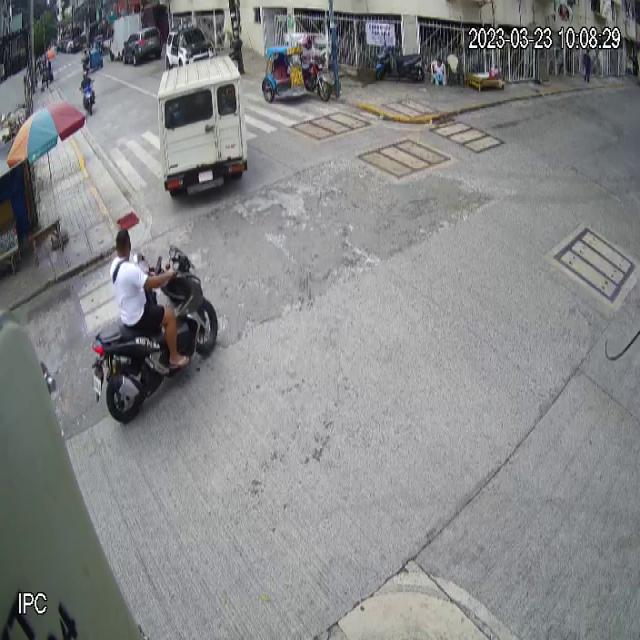Motorcycle: (92, 243, 219, 427)
Tricycle: (262, 43, 332, 103)
Van: (156, 54, 250, 198)
